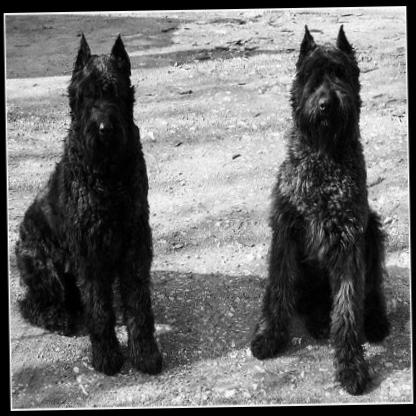Bouvier_des_Flandres: (240, 19, 392, 396), (8, 26, 164, 378)
